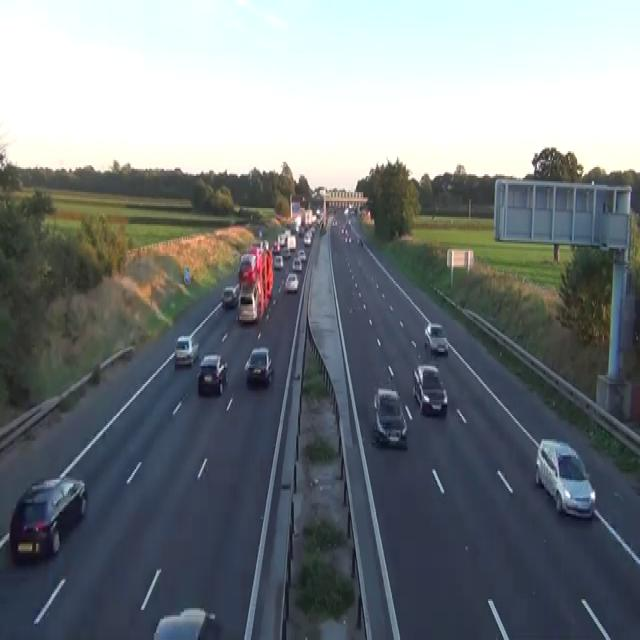Car: (9, 474, 87, 564), (535, 437, 596, 519), (153, 606, 220, 638), (372, 386, 407, 446), (412, 364, 447, 416), (91, 345, 135, 382), (197, 354, 227, 394), (244, 345, 273, 386), (237, 281, 259, 322), (424, 322, 448, 356), (174, 334, 199, 366), (238, 252, 256, 284), (221, 284, 239, 308), (284, 272, 298, 292), (250, 238, 269, 252), (91, 363, 100, 382), (291, 256, 302, 270), (183, 266, 191, 284), (287, 234, 296, 250), (273, 254, 283, 268), (272, 240, 280, 254), (297, 249, 306, 261), (250, 244, 260, 254), (303, 233, 311, 245), (282, 247, 290, 258), (278, 233, 285, 245), (298, 226, 304, 236), (331, 218, 337, 226), (357, 237, 362, 246), (343, 206, 348, 214), (258, 228, 262, 238), (348, 218, 351, 228), (316, 208, 320, 215)
Truck: (236, 238, 273, 324)
